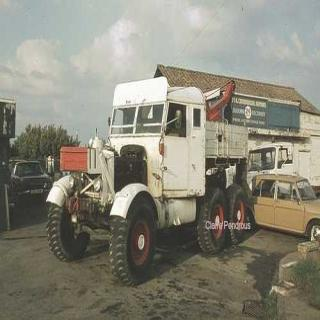Towing_truck: (44, 74, 256, 286)
